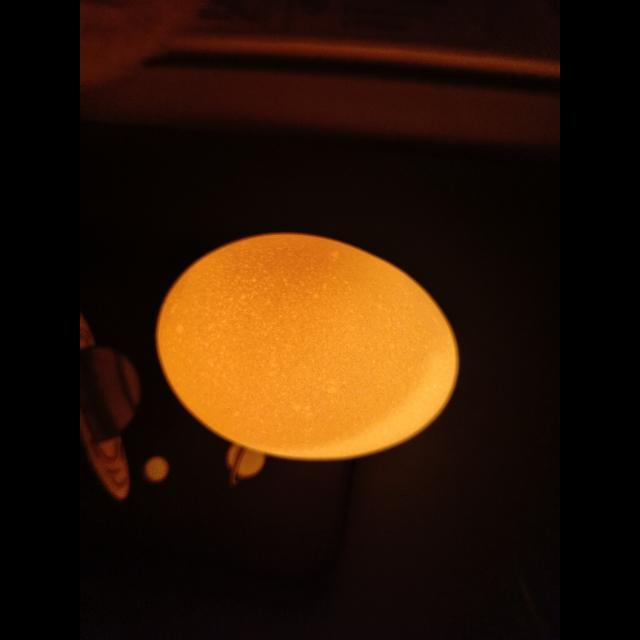AA - Premium: (156, 234, 459, 460)
